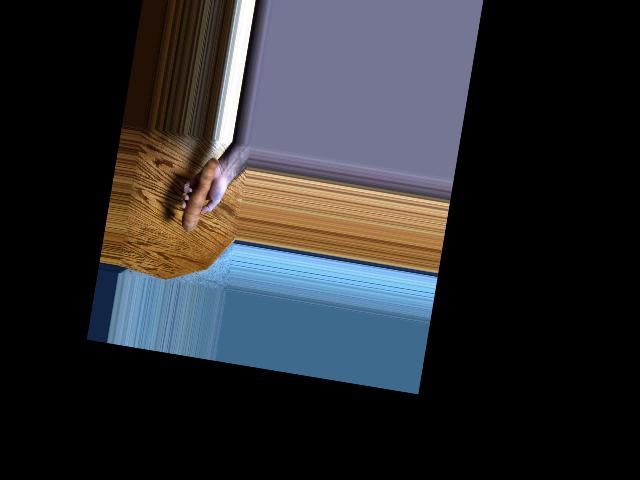sweet_potato: (175, 158, 220, 239)
